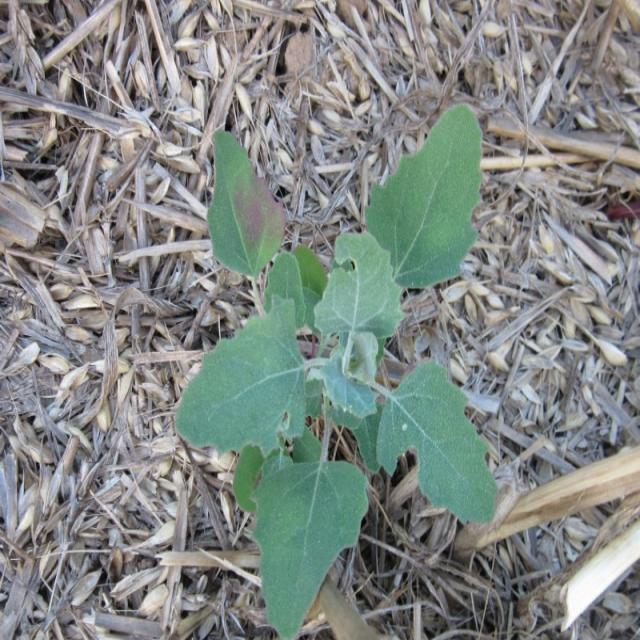ca: (176, 112, 501, 634)
